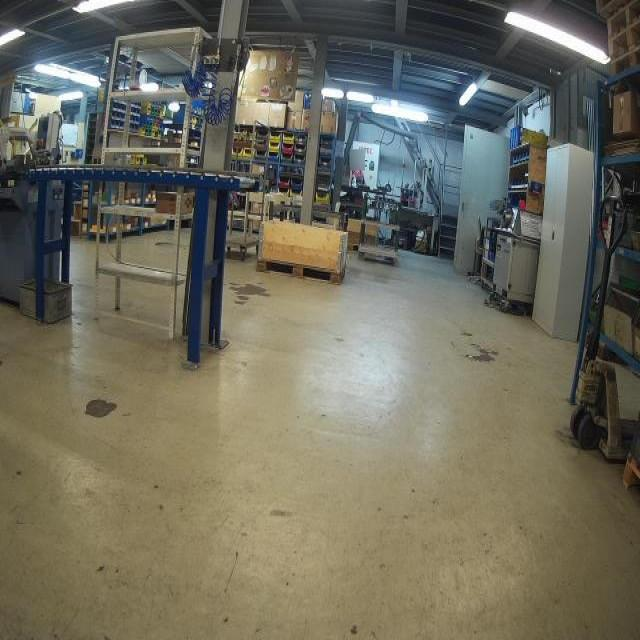pallet: (253, 254, 348, 285), (610, 2, 638, 34), (611, 20, 638, 52), (612, 48, 637, 71), (348, 240, 362, 253)
pallet_truck: (566, 190, 634, 466)
